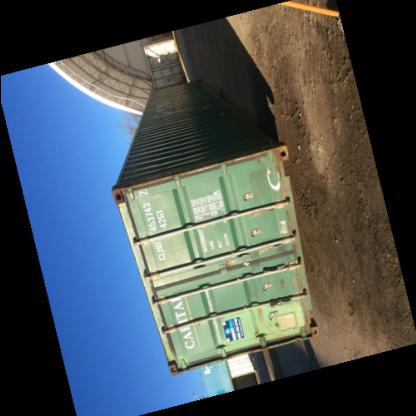Damage: (267, 236, 295, 266), (242, 174, 266, 207), (260, 272, 286, 300)
